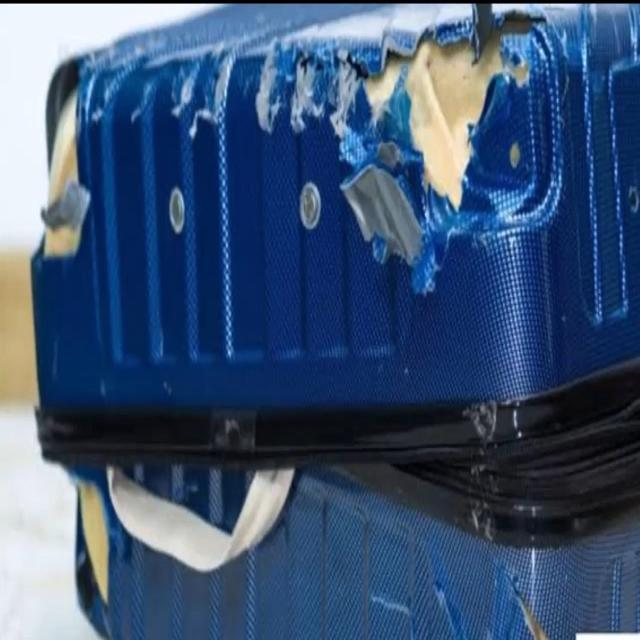Damage-bag: (171, 11, 565, 294), (35, 31, 162, 263), (438, 402, 552, 639), (64, 462, 110, 637)
